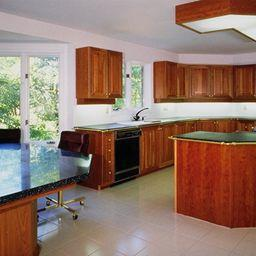Electrodomestico: (114, 127, 142, 183)
